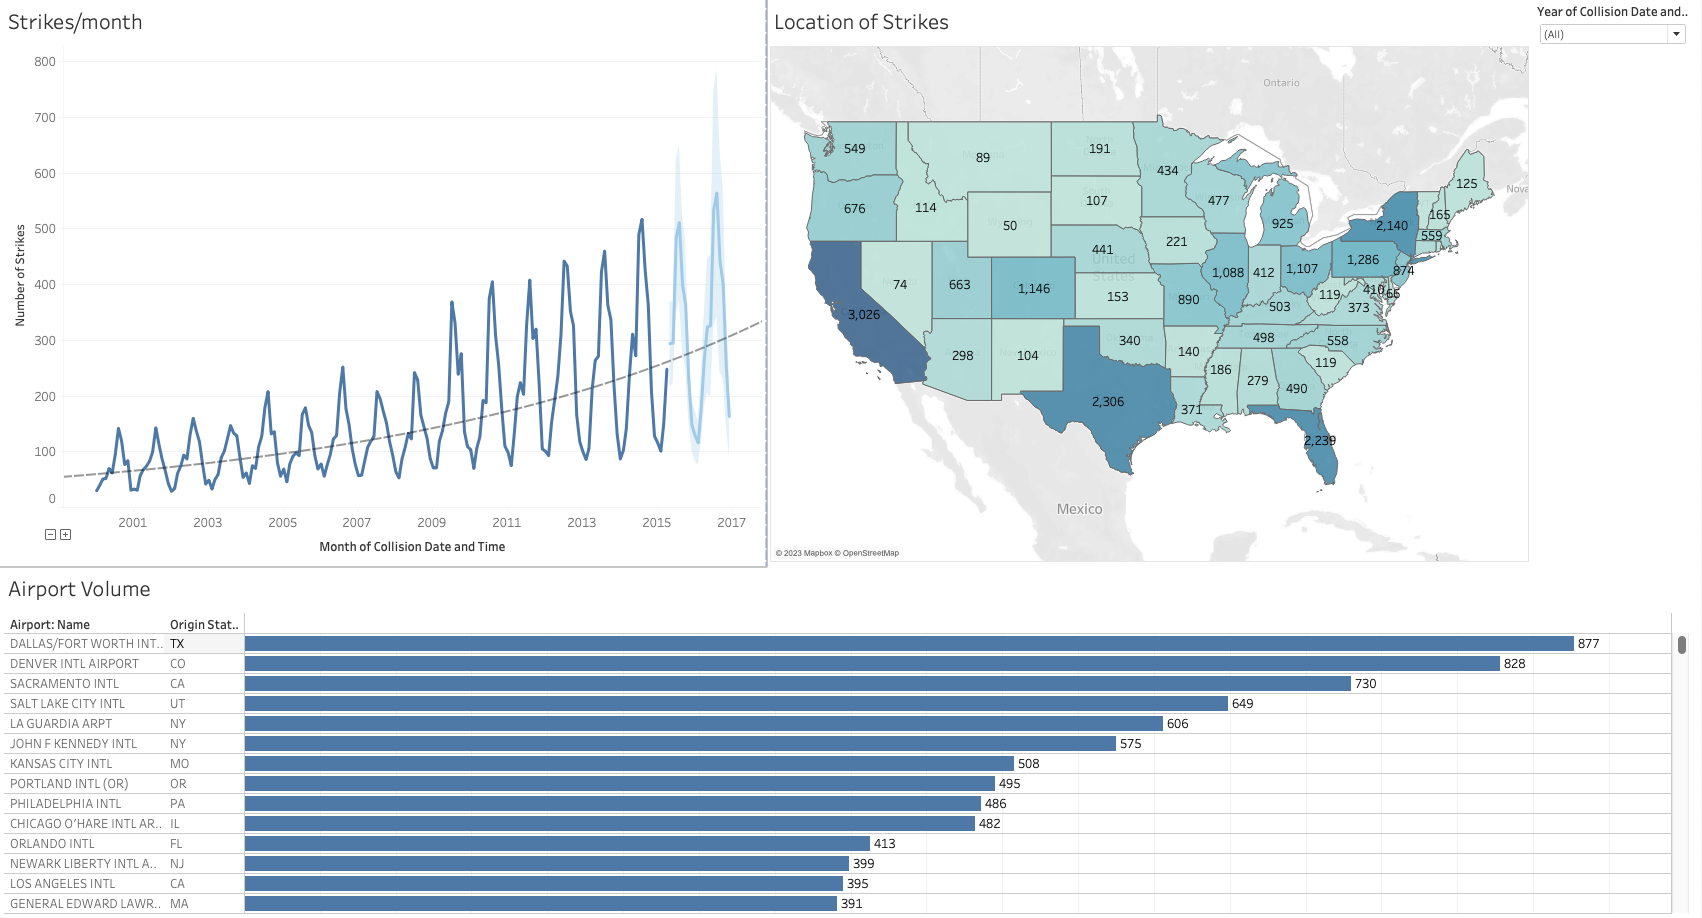

The dashboard page shown, as its layout file describes it:
{"tool":"tableau","page":{"name":"Strike Volume","canvas":[1000,1000],"units":"permille","ordinal":2},"visuals":[{"type":"worksheet","title":"Strikes/month","mark":"Automatic","rows":["Number of Strikes"],"cols":["Collision Date and Time"],"box":[4.7,8.6,448.5,606.4]},{"type":"worksheet","title":"Location of Strikes","mark":"Automatic","box":[453.2,8.6,448.5,606.4]},{"type":"filter","title":"Strikes/month","param":"[federated.04nr8pr1fgrfe7118lz7j1k2yfn2].[yr:Collision Date and Time:ok]","box":[901.7,8.6,93.6,55.6]},{"type":"worksheet","title":"Airport Volume","mark":"Automatic","rows":[" Name","Origin State Code"],"cols":["Number of Strikes"],"box":[4.7,615,990.6,376.5]}]}

Visuals, with their boxes on the dashboard's canvas, which has no fixed pixel size, in thousandths of its width and height (x1, y1, x2, y2). These are canvas units, not pixel positions in the 1702x918 screenshot, which may show the page scaled, cropped or inside an application window:
"Strikes/month" worksheet: bbox(5, 9, 453, 615)
"Location of Strikes" worksheet: bbox(453, 9, 902, 615)
"Strikes/month" filter: bbox(902, 9, 995, 64)
"Airport Volume" worksheet: bbox(5, 615, 995, 992)
